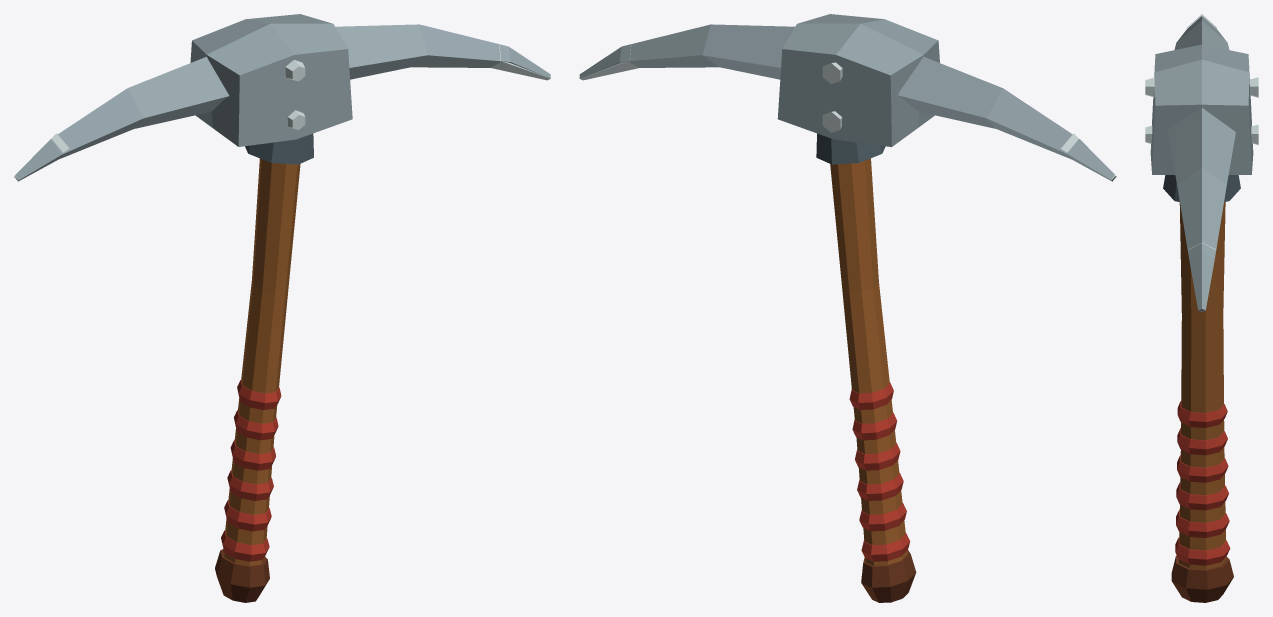
Rendered from iron_pickaxe_world.glb.
3 views of the same model, side by side, from view 1: azimuth 30°, elevation 25°; view 2: azimuth 150°, elevation 25°; view 3: azimuth 270°, elevation 25° (orthographic). The views are drawn at different scales.
Parts seen in each view (by area): view 1: Pick_Eye.004, Handle.008, Pick_Arm_Left.004, Pick_Arm_Right.004, Handle_Butt.008, Iron_Socket, Grip_Wrap_1.008, Grip_Wrap_2.008, Grip_Wrap_3.008, Grip_Wrap_4.008, Grip_Wrap_5.008, Grip_Wrap_6.008; view 2: Pick_Eye.004, Handle.008, Pick_Arm_Left.004, Pick_Arm_Right.004, Handle_Butt.008, Iron_Socket, Grip_Wrap_1.008, Grip_Wrap_2.008, Grip_Wrap_3.008, Grip_Wrap_4.008, Grip_Wrap_5.008, Grip_Wrap_6.008; view 3: Handle.008, Pick_Eye.004, Pick_Arm_Right.004, Handle_Butt.008, Pick_Arm_Left.004, Grip_Wrap_1.008, Grip_Wrap_2.008, Grip_Wrap_3.008, Grip_Wrap_4.008, Grip_Wrap_5.008, Grip_Wrap_6.008, Iron_Socket (+2 smaller).
Boxes of the visible parts, left/top/right/bottom form: Pick_Eye.004: left=190, top=14, right=352, bottom=146; Handle.008: left=223, top=158, right=300, bottom=565; Pick_Arm_Left.004: left=14, top=56, right=229, bottom=181; Pick_Arm_Right.004: left=335, top=24, right=550, bottom=79; Handle_Butt.008: left=215, top=549, right=269, bottom=602; Iron_Socket: left=245, top=133, right=313, bottom=164; Grip_Wrap_1.008: left=221, top=530, right=269, bottom=561; Grip_Wrap_2.008: left=224, top=500, right=271, bottom=531; Grip_Wrap_3.008: left=227, top=470, right=273, bottom=500; Grip_Wrap_4.008: left=230, top=440, right=275, bottom=470; Grip_Wrap_5.008: left=234, top=410, right=278, bottom=440; Grip_Wrap_6.008: left=237, top=380, right=281, bottom=409; Pick_Eye.004: left=777, top=14, right=939, bottom=146; Handle.008: left=830, top=158, right=907, bottom=565; Pick_Arm_Left.004: left=898, top=57, right=1115, bottom=181; Pick_Arm_Right.004: left=579, top=24, right=794, bottom=79; Handle_Butt.008: left=861, top=550, right=916, bottom=602; Iron_Socket: left=816, top=133, right=885, bottom=164; Grip_Wrap_1.008: left=861, top=533, right=910, bottom=561; Grip_Wrap_2.008: left=859, top=503, right=906, bottom=531; Grip_Wrap_3.008: left=857, top=472, right=903, bottom=500; Grip_Wrap_4.008: left=855, top=443, right=900, bottom=470; Grip_Wrap_5.008: left=852, top=412, right=896, bottom=440; Grip_Wrap_6.008: left=849, top=382, right=893, bottom=409; Handle.008: left=1179, top=202, right=1226, bottom=569; Pick_Eye.004: left=1150, top=44, right=1253, bottom=174; Pick_Arm_Right.004: left=1167, top=107, right=1235, bottom=310; Handle_Butt.008: left=1171, top=555, right=1233, bottom=602; Pick_Arm_Left.004: left=1174, top=16, right=1229, bottom=49; Grip_Wrap_1.008: left=1175, top=537, right=1230, bottom=565; Grip_Wrap_2.008: left=1176, top=510, right=1229, bottom=537; Grip_Wrap_3.008: left=1176, top=482, right=1228, bottom=510; Grip_Wrap_4.008: left=1177, top=455, right=1228, bottom=482; Grip_Wrap_5.008: left=1177, top=428, right=1227, bottom=455; Grip_Wrap_6.008: left=1177, top=401, right=1227, bottom=427; Iron_Socket: left=1163, top=175, right=1240, bottom=201.
Bounding box in the file's own units: 1.27 × 1.28 × 0.238.
